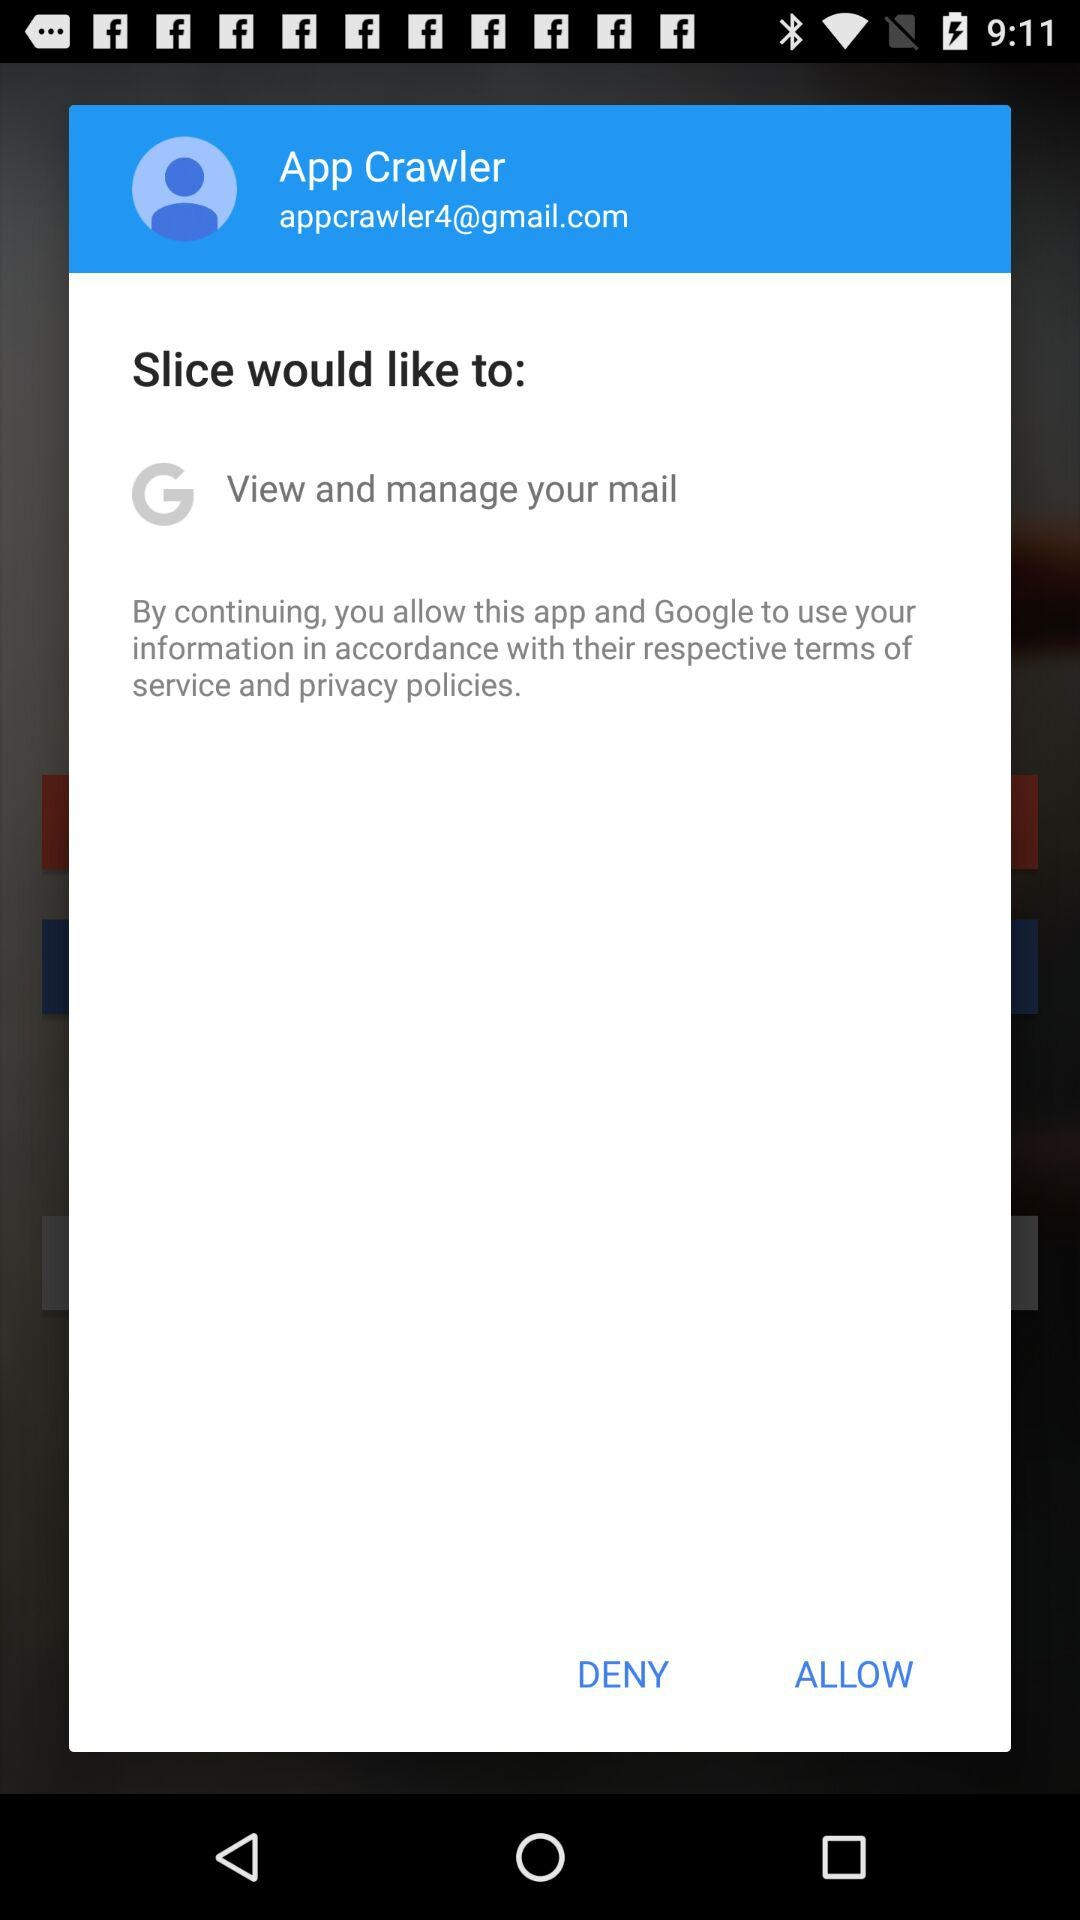Button: (506, 1626, 738, 1720), (738, 1626, 969, 1720)
ImageView: (132, 136, 237, 243), (132, 463, 195, 526), (885, 463, 948, 526)
TextView: (132, 556, 948, 705), (132, 336, 948, 400), (280, 194, 629, 236), (280, 136, 506, 194)
